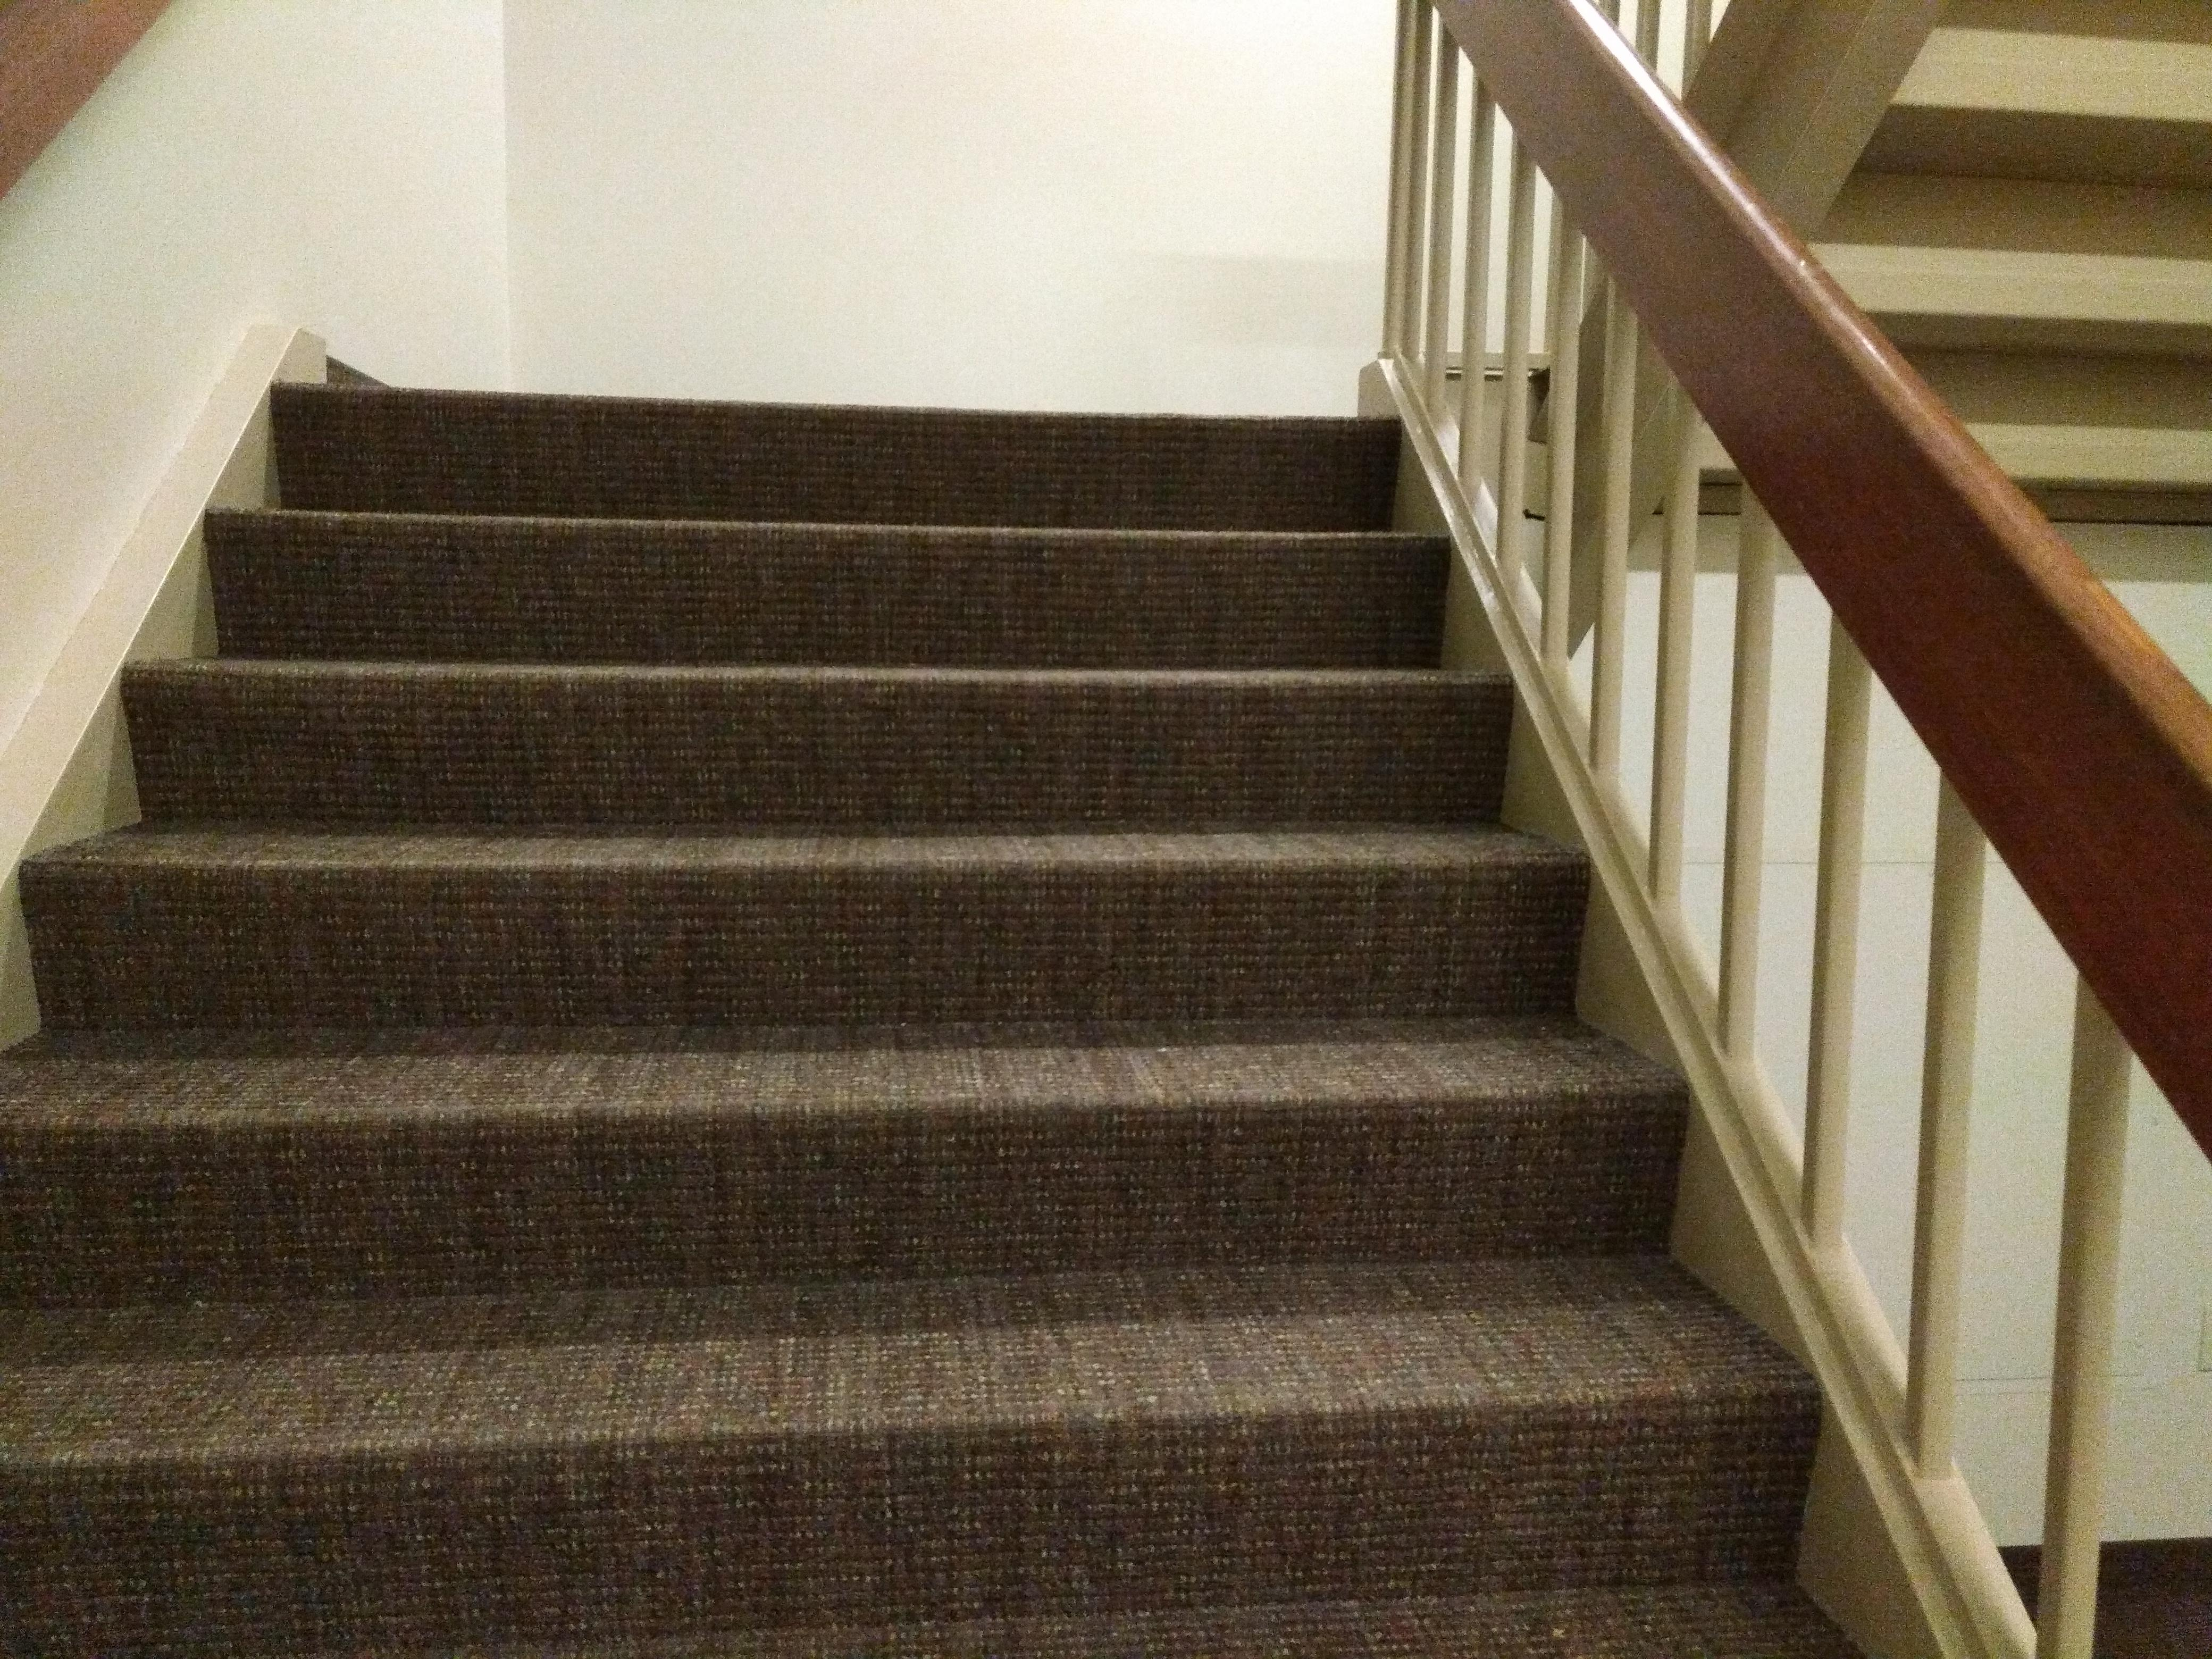stairs_up: (3, 333, 1912, 1659)
